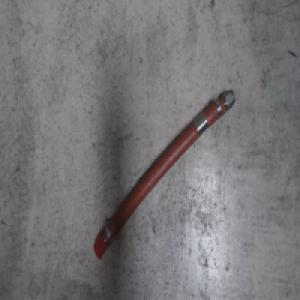Hose: (92, 86, 235, 262)
